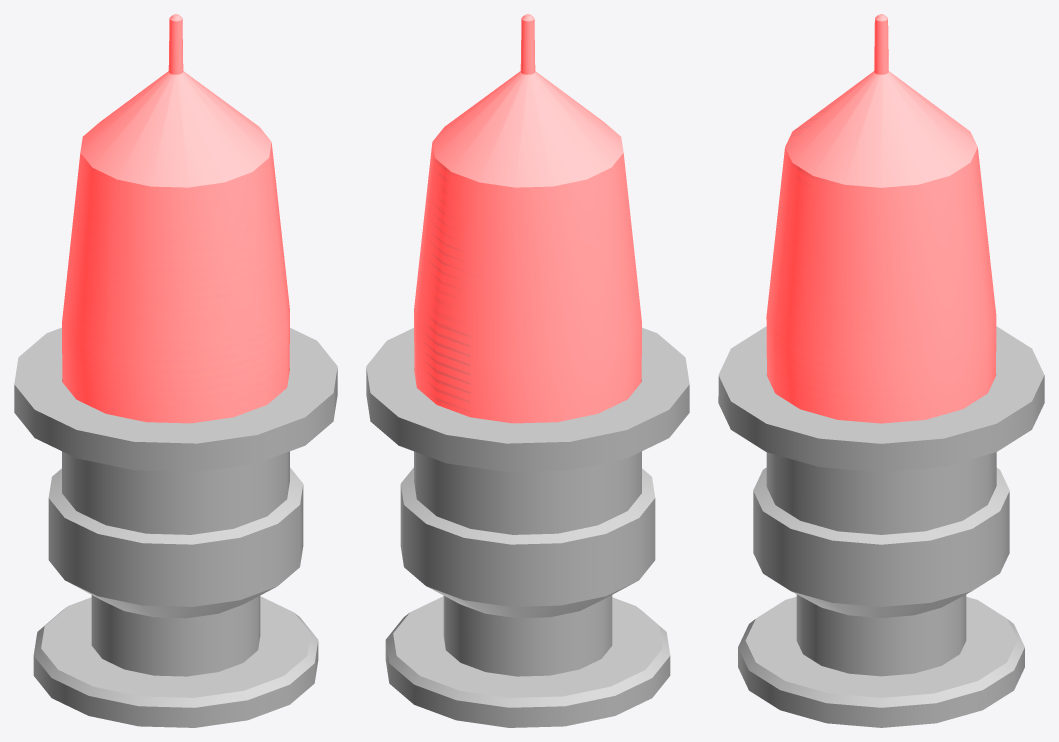
Rendered from KB3D_CBP_Light_G.fbx.
3 renders of one model, left to right at view 1: azimuth 30°, elevation 25°; view 2: azimuth 150°, elevation 25°; view 3: azimuth 270°, elevation 25°, orthographic.
Visible parts, largest first — view 1: KB3D_CBP_Light_G_Main; view 2: KB3D_CBP_Light_G_Main; view 3: KB3D_CBP_Light_G_Main.
Part boxes in pixels (left/top/right/bottom): KB3D_CBP_Light_G_Main: left=14, top=14, right=337, bottom=727; KB3D_CBP_Light_G_Main: left=366, top=14, right=689, bottom=727; KB3D_CBP_Light_G_Main: left=718, top=14, right=1044, bottom=727.
Size of the model in its own units: 37.9 by 83.65 by 37.9.
